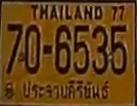0: (23, 24, 40, 73)
3: (91, 25, 107, 74)
5: (110, 24, 127, 75), (73, 24, 88, 72)
6: (54, 24, 70, 73)
7: (7, 23, 23, 74)
PKN: (20, 77, 115, 104)
